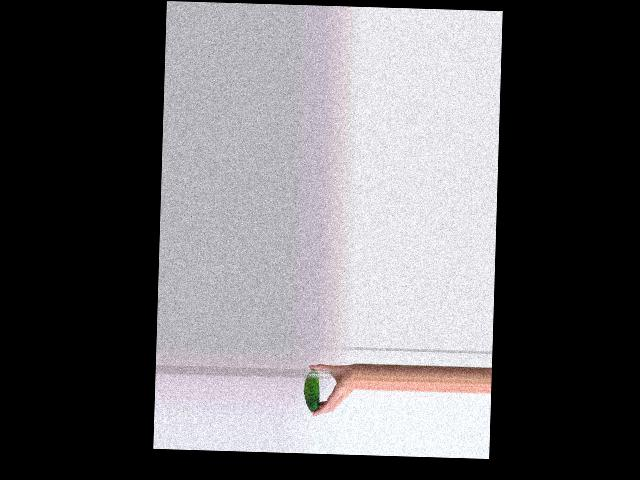cucumber: (302, 368, 320, 411)
